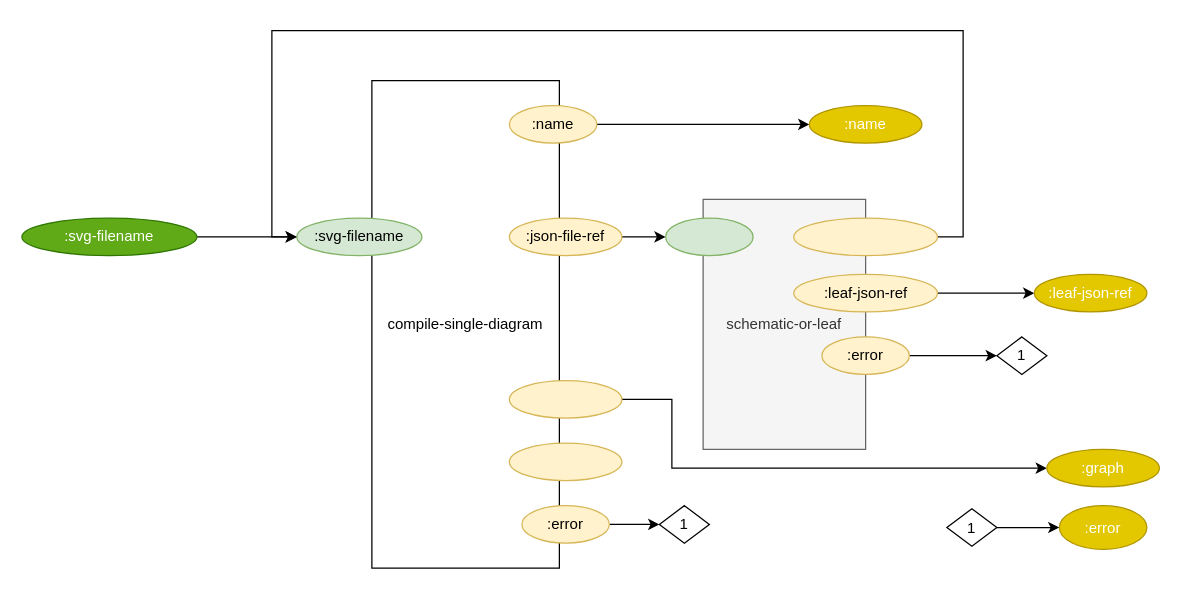
Image size: 1181x590. Some labels were removed from this diagram. The shapes that lost their labels are listed below. From the top down, each one's centre as x and y in pixels, then its label:
the point at 708,236: :json-ref
the point at 865,236: :schematic-json-ref
the point at 565,398: :json-graph
the point at 565,461: :lisp-graph
